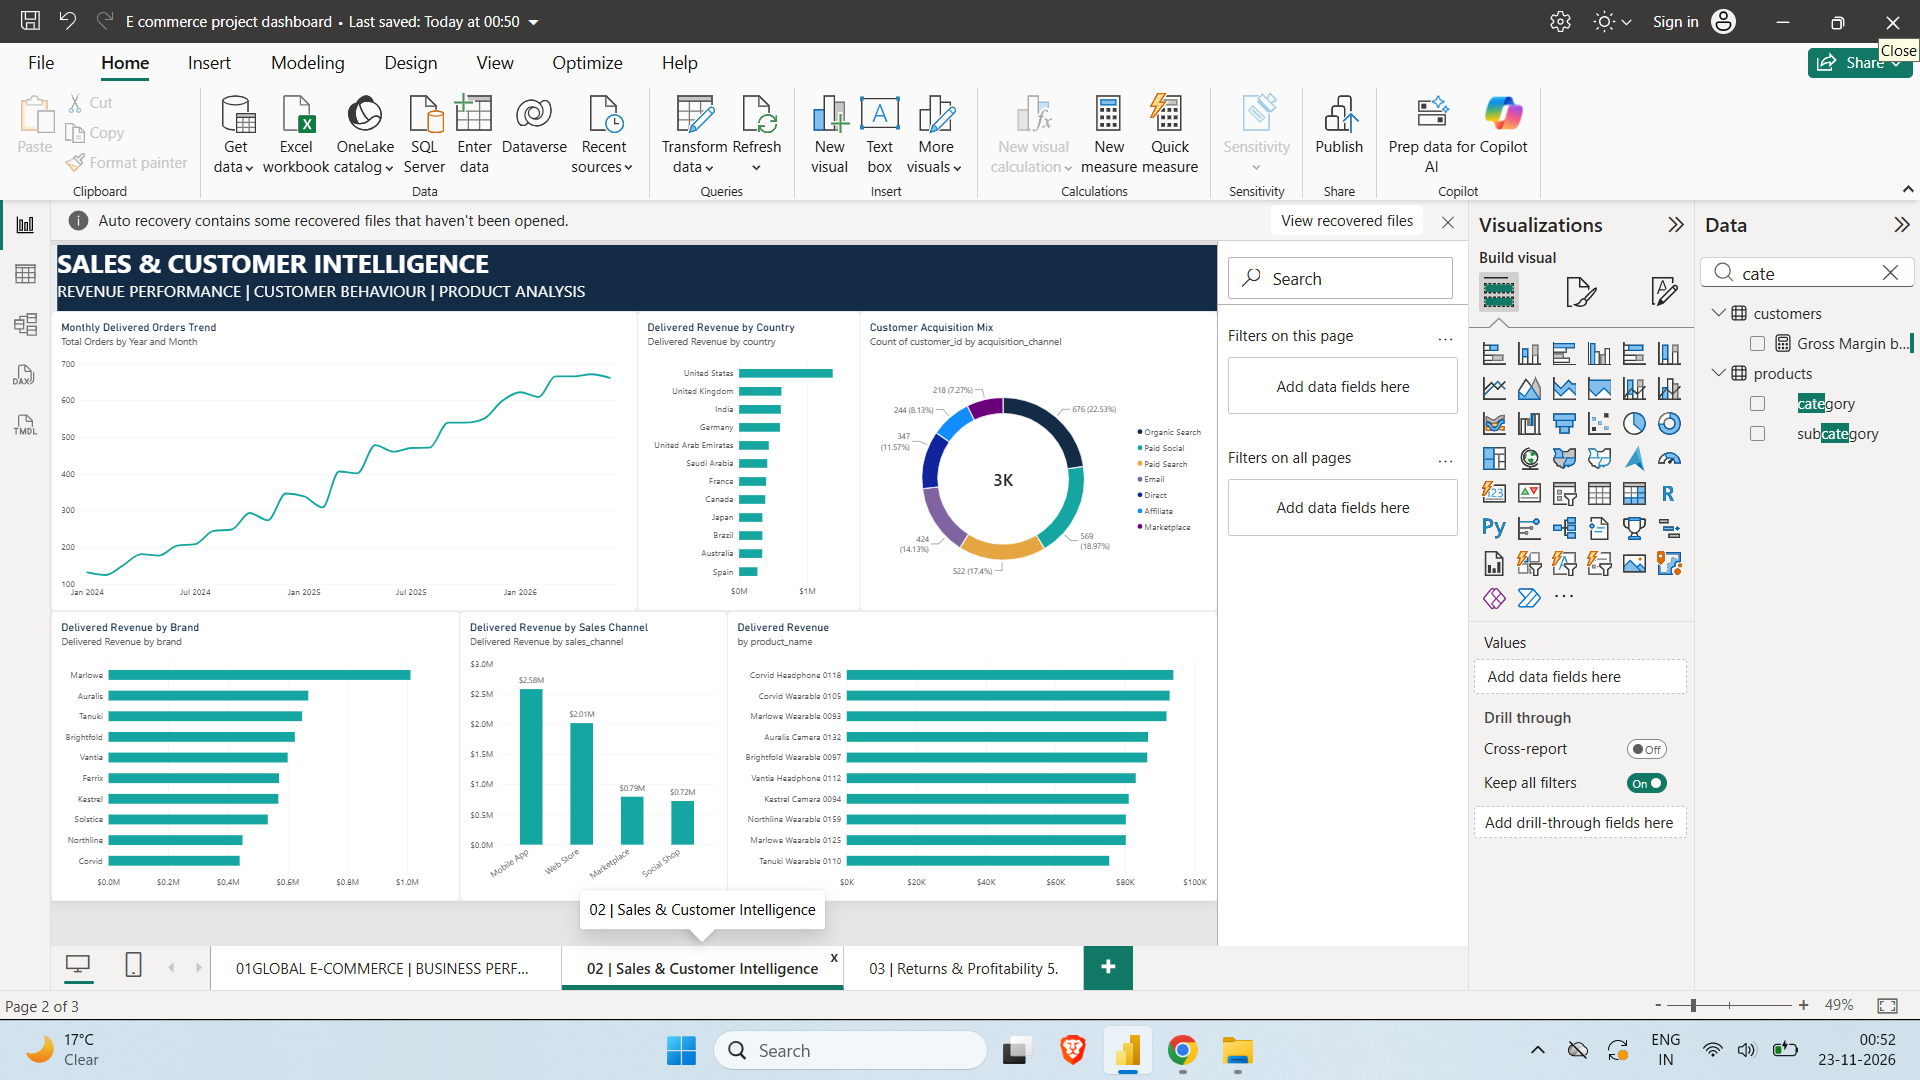

This screenshot's page, from the dashboard's own definition file:
{"tool":"powerbi","page":{"name":"02 | Sales & Customer Intelligence","canvas":[1920,1080],"ordinal":1},"visuals":[{"type":"textbox","box":[10.3,0,1910.1,109.1],"z":0},{"type":"clusteredBarChart","title":"Delivered Revenue by Country","fields":{"Category":["customers.country"],"Y":["order_items.Delivered Revenue"]},"box":[965,110,367.5,492.5],"z":1000},{"type":"clusteredColumnChart","title":"Delivered Revenue by Sales Channel","fields":{"Category":["orders.sales_channel"],"Y":["order_items.Delivered Revenue"]},"box":[673.1,603.1,440.5,477.5],"z":2000},{"type":"lineChart","title":"Monthly Delivered Orders Trend","fields":{"Category":["orders.order_date.Variation.Date Hierarchy.Year","orders.order_date.Variation.Date Hierarchy.Month"],"Y":["orders.Total Orders"]},"box":[0,109.1,965.4,494],"z":3000},{"type":"clusteredBarChart","fields":{"Category":["products.product_name"],"Y":["order_items.Delivered Revenue"]},"box":[1113.6,603.1,806.9,477.5],"z":4000},{"type":"clusteredBarChart","title":"Delivered Revenue by Brand","fields":{"Category":["products.brand"],"Y":["order_items.Delivered Revenue"]},"box":[0,603.1,673.1,477.5],"z":5000},{"type":"donutChart","title":"Customer Acquisition Mix","fields":{"Category":["customers.acquisition_channel"],"Y":["CountNonNull(customers.customer_id)"]},"box":[1331.7,109.1,588.7,494],"z":6000}]}

Visuals, with their boxes on the page's 1920x1080 design canvas (x1, y1, x2, y2). These are canvas units, not pixel positions in the 1920x1080 screenshot, which may show the page scaled, cropped or inside an application window:
textbox: box=[10, 0, 1920, 109]
"Delivered Revenue by Country" clusteredBarChart: box=[965, 110, 1332, 602]
"Delivered Revenue by Sales Channel" clusteredColumnChart: box=[673, 603, 1114, 1081]
"Monthly Delivered Orders Trend" lineChart: box=[0, 109, 965, 603]
clusteredBarChart - products.product_name x order_items.Delivered Revenue: box=[1114, 603, 1920, 1081]
"Delivered Revenue by Brand" clusteredBarChart: box=[0, 603, 673, 1081]
"Customer Acquisition Mix" donutChart: box=[1332, 109, 1920, 603]
